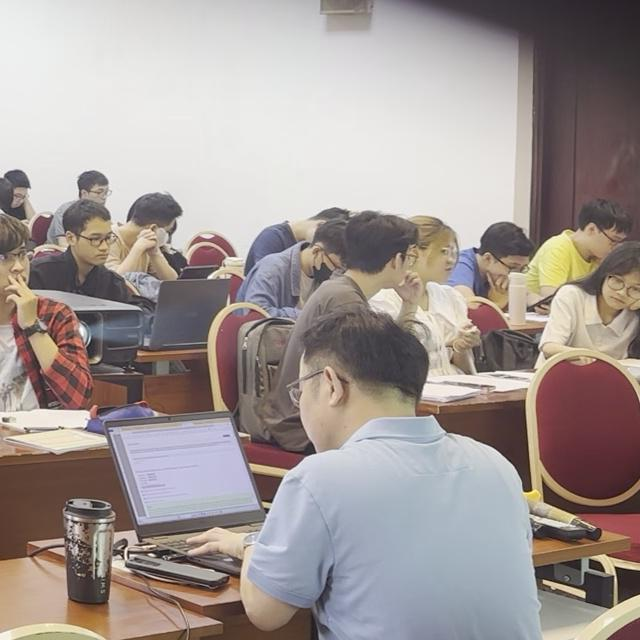Looking away: (346, 212, 408, 288), (421, 241, 456, 285), (80, 217, 112, 265), (607, 270, 639, 312), (584, 225, 624, 253), (137, 219, 172, 248), (490, 257, 532, 280), (84, 186, 107, 205), (11, 186, 30, 209)
Looking forward: (0, 252, 32, 297)
